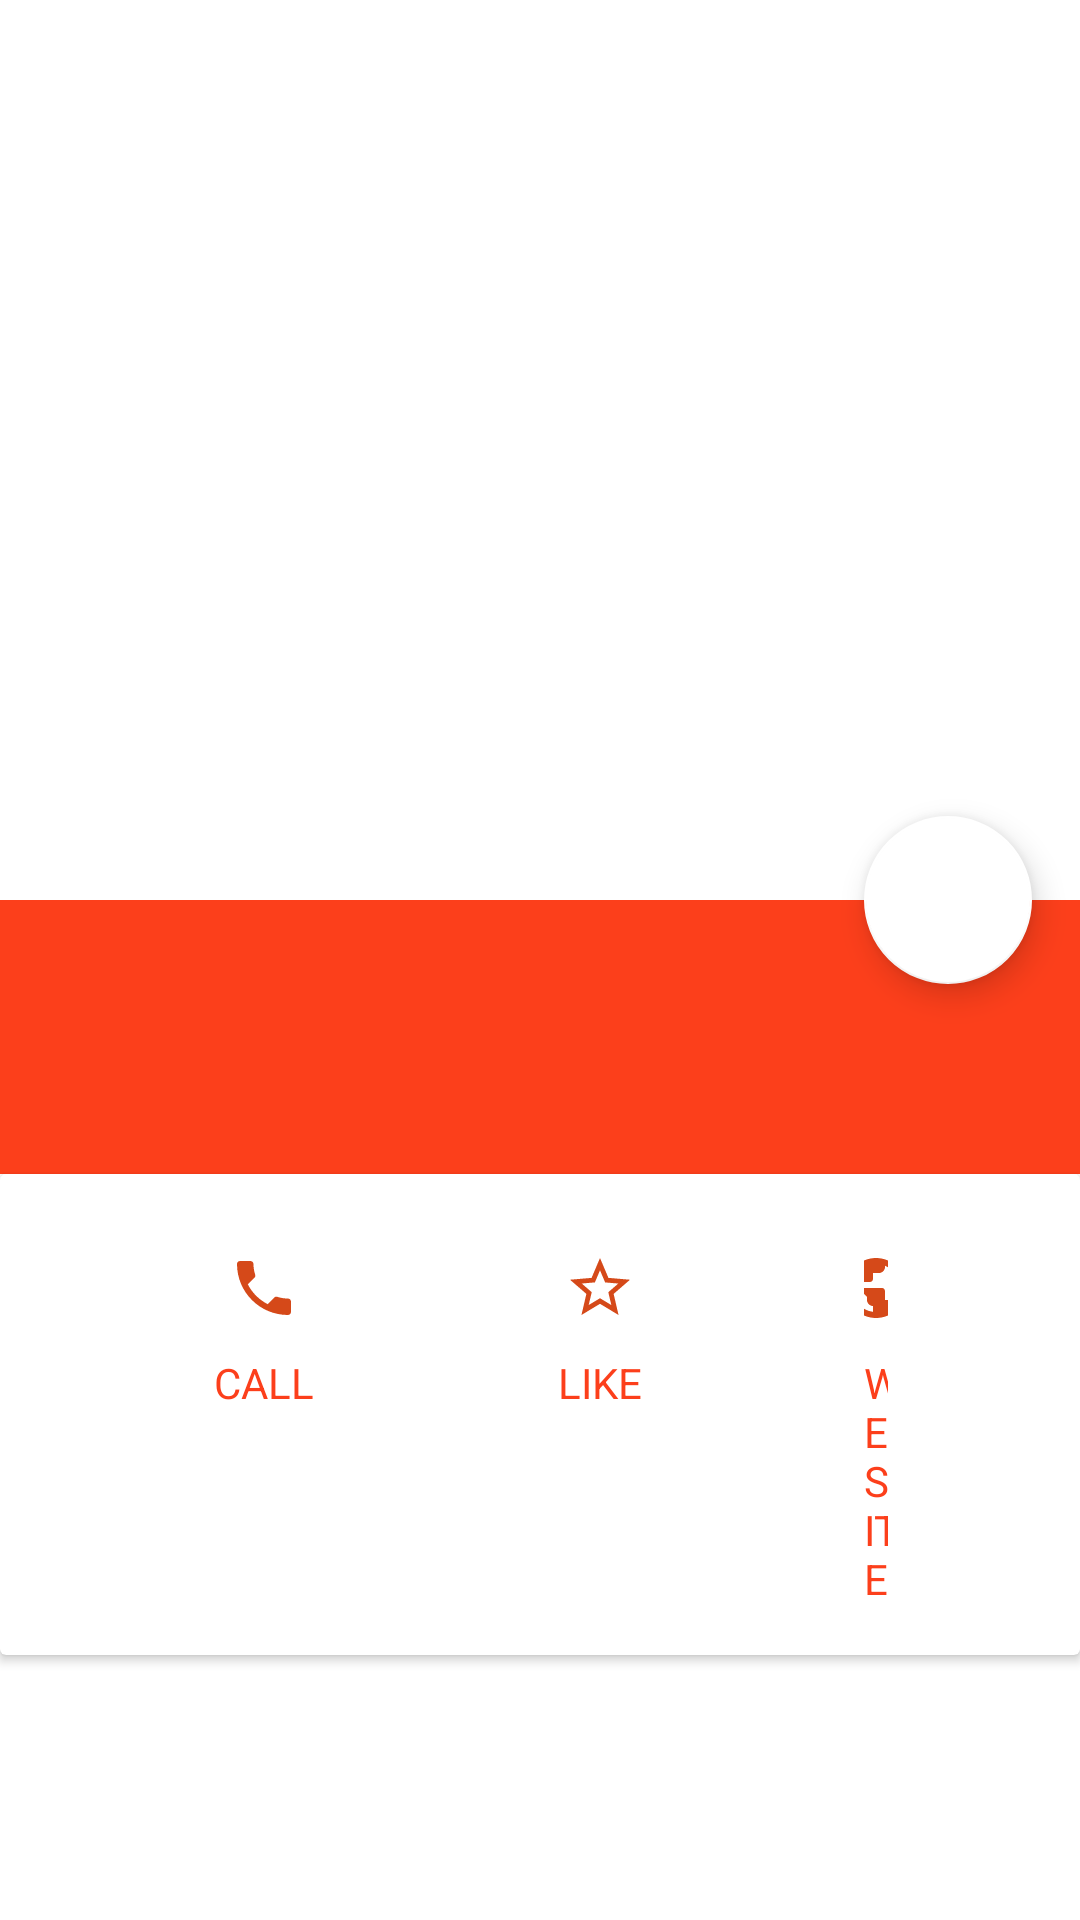

Icons on this 1080×1920 Android screen, each with its box as detection(x1, y1, x2, y2):
phone: detection(237, 1261, 291, 1315)
star: detection(570, 1258, 630, 1315)
